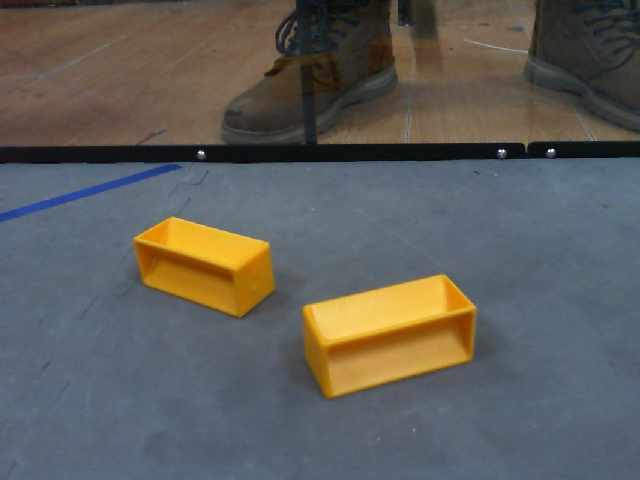YellowSample: (297, 269, 483, 405), (130, 213, 281, 322)
